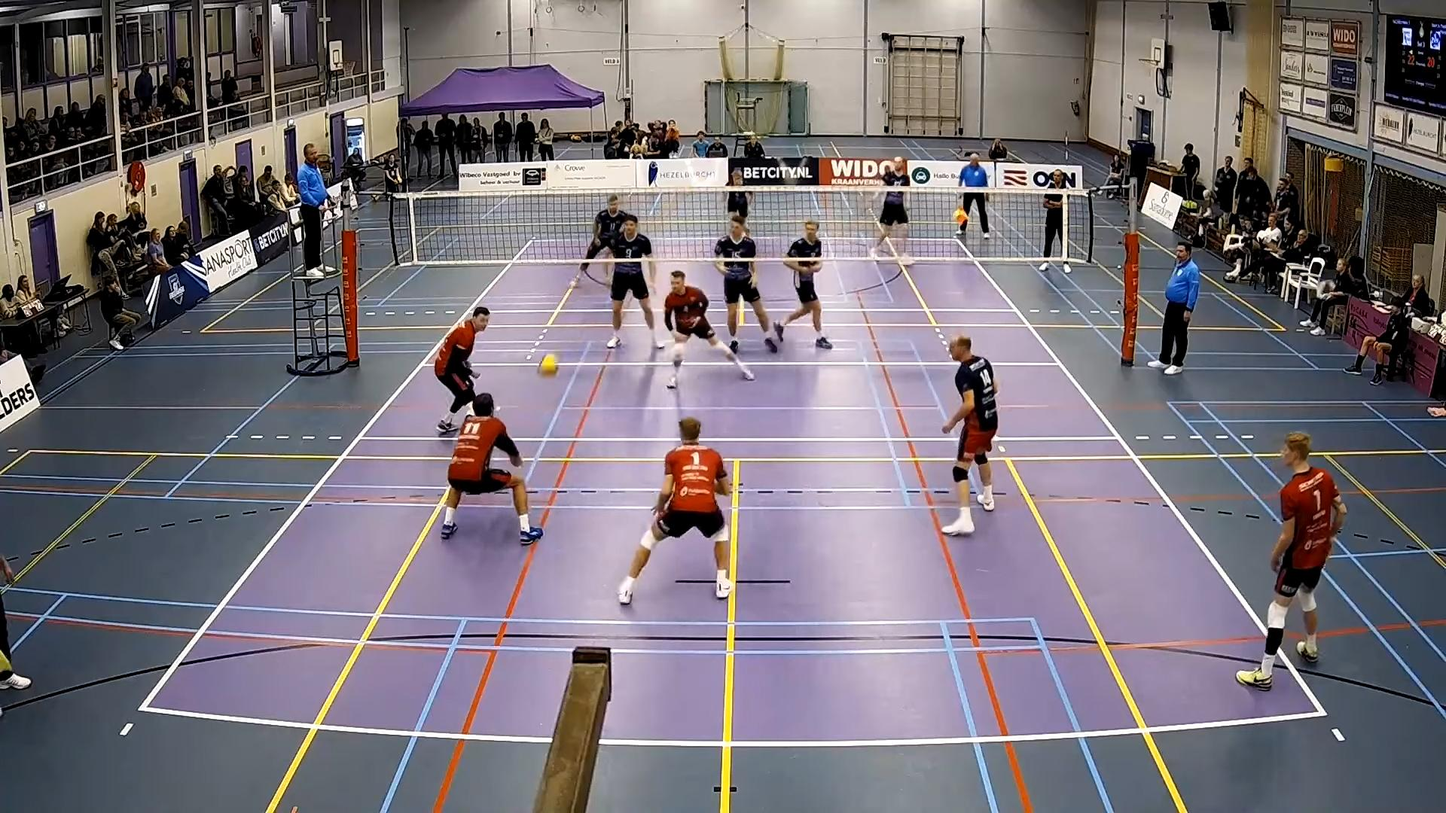ricezione: (439, 394, 551, 541)
